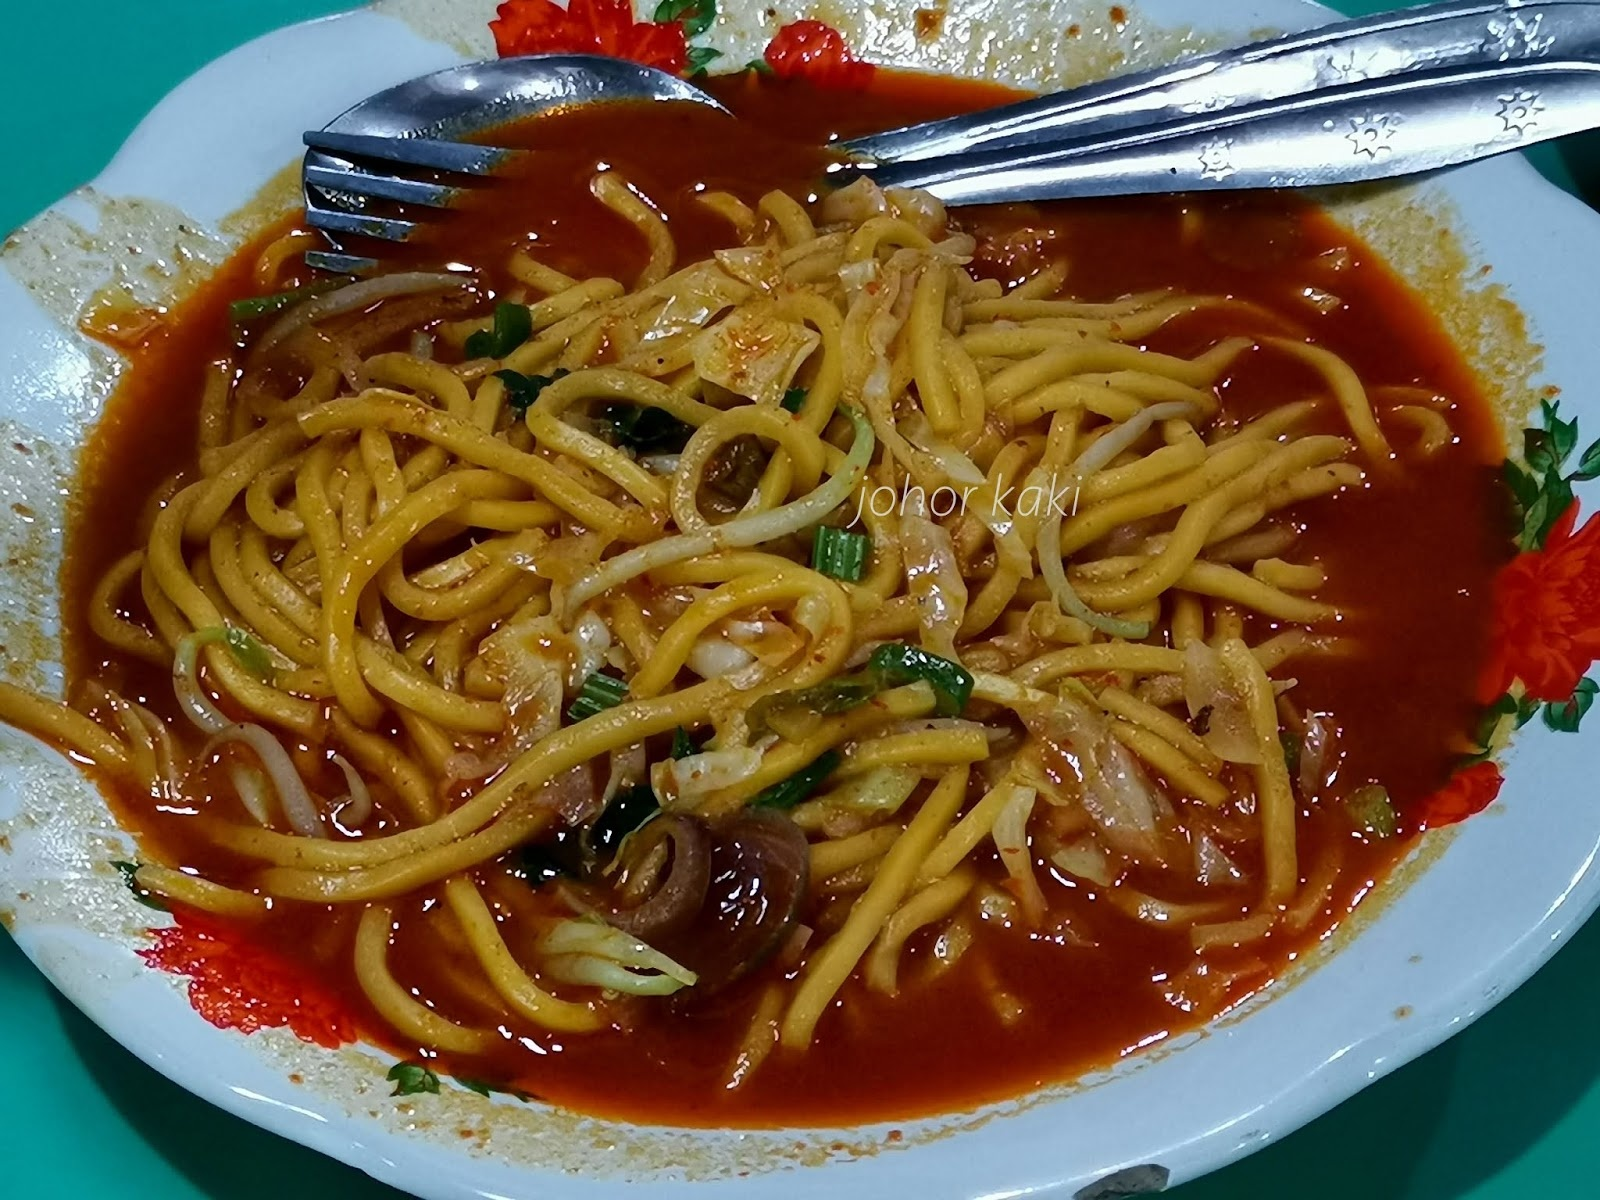mie_aceh: (66, 194, 1502, 1133)
